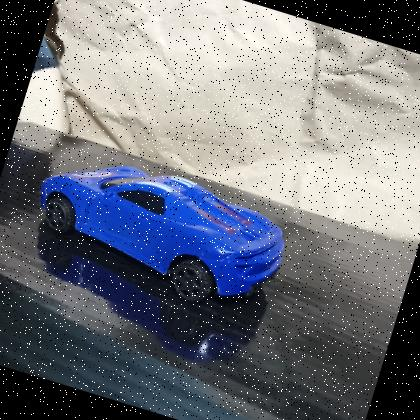Car: (12, 131, 304, 332)
